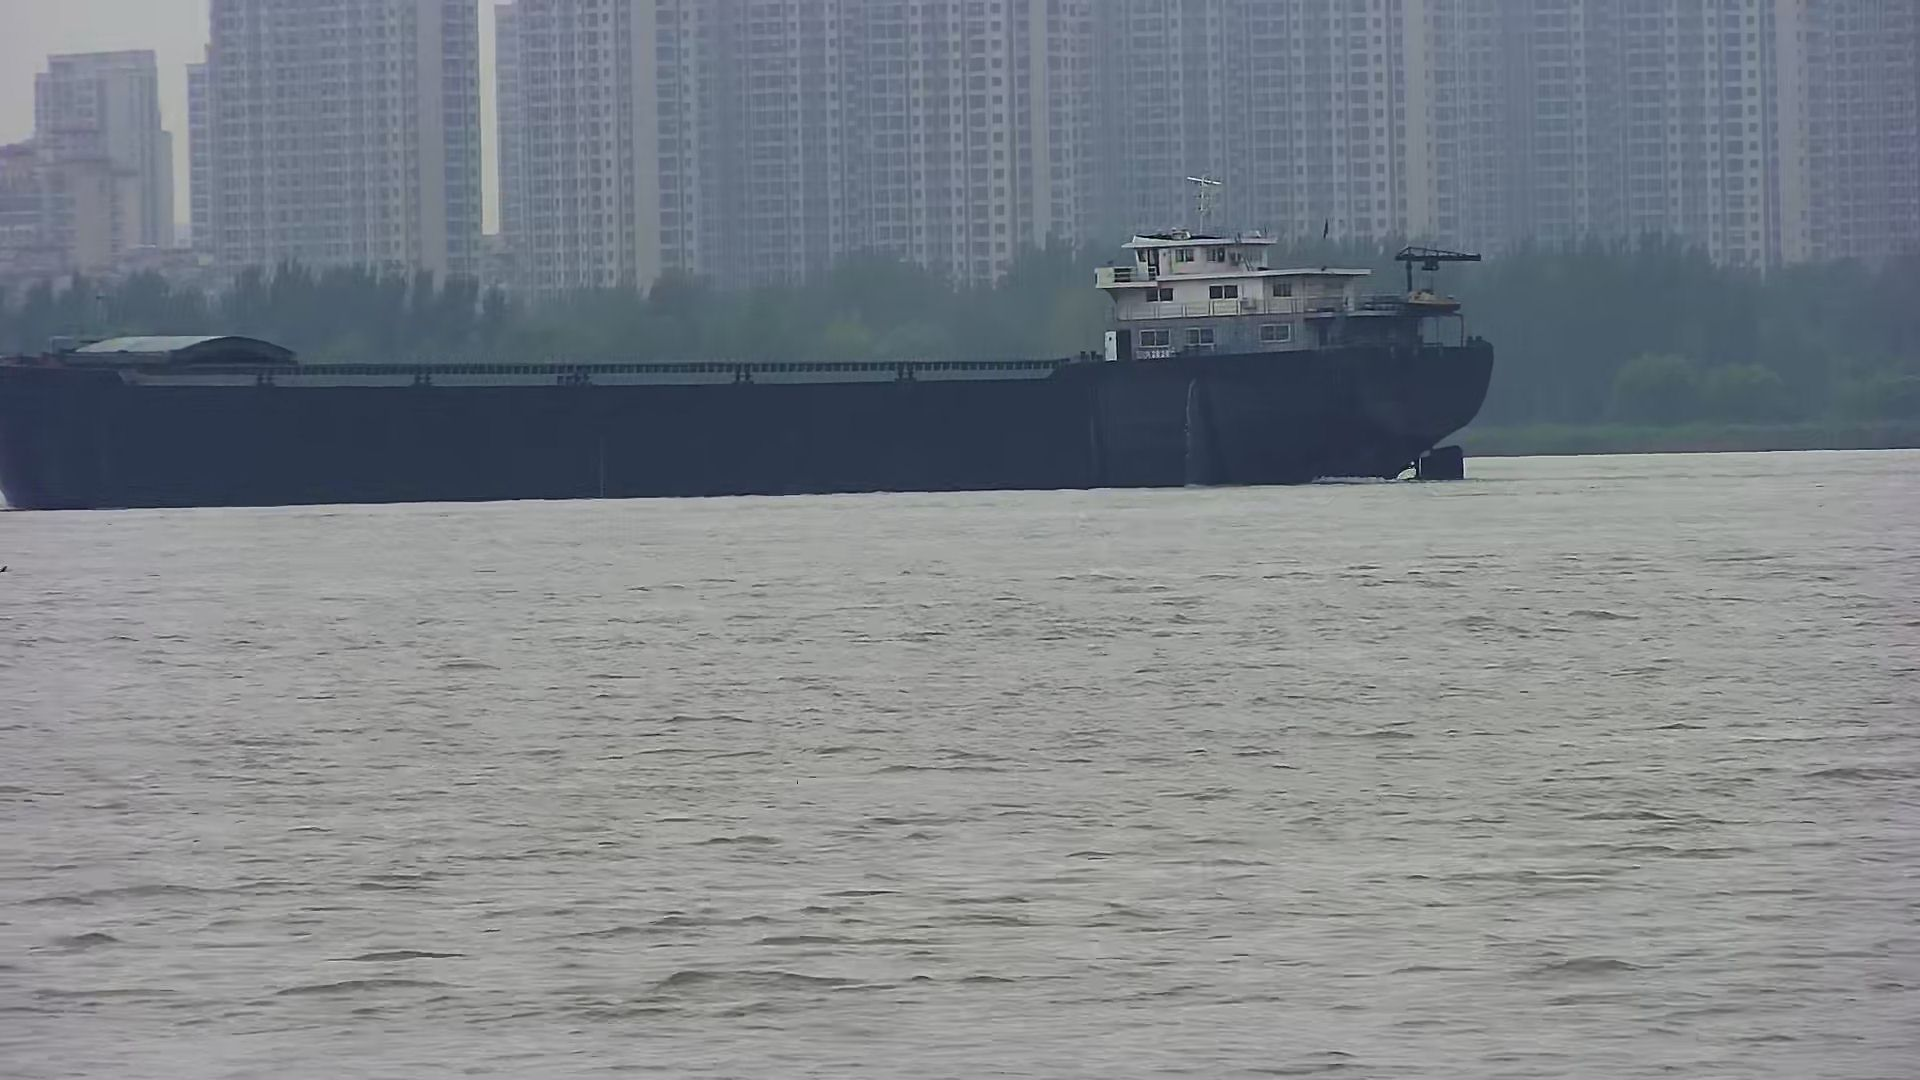ship: (1, 181, 1495, 516)
